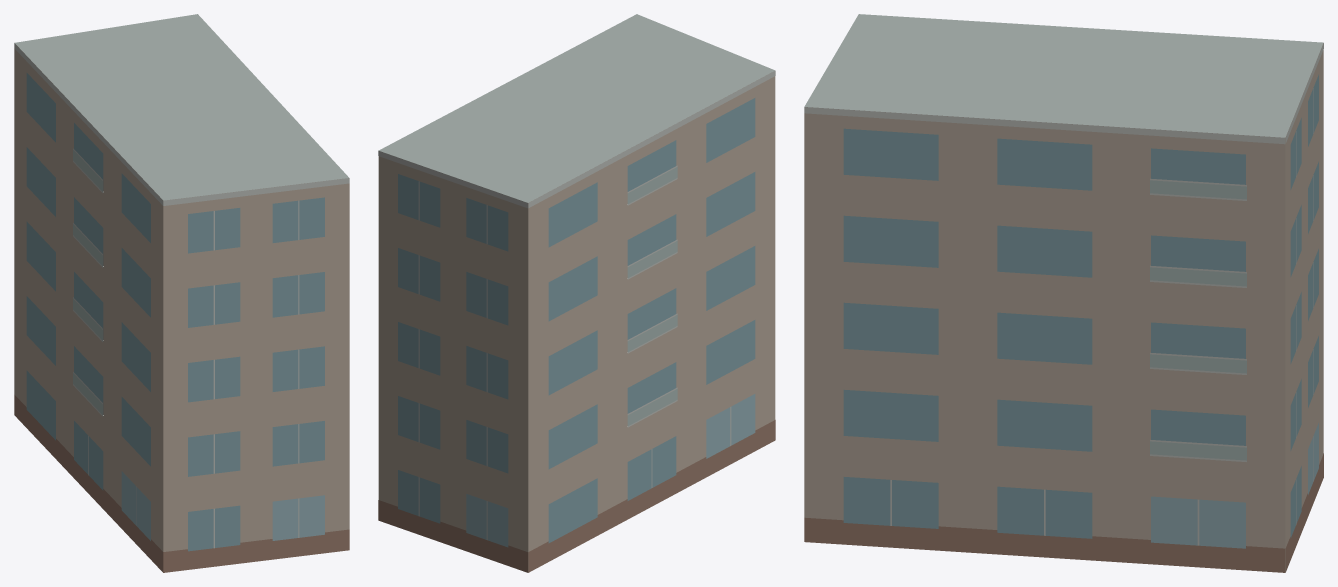
The model's file is survey-upis-32960127.glb.
3 views of the same model, side by side, from view 1: azimuth 30°, elevation 25°; view 2: azimuth 150°, elevation 25°; view 3: azimuth 270°, elevation 25° (orthographic). The views are drawn at different scales.
Parts seen in each view (by area): view 1: survey-upis-32960127.tmp; view 2: survey-upis-32960127.tmp; view 3: survey-upis-32960127.tmp.
Boxes of the visible parts, <box> form: survey-upis-32960127.tmp: <box>14,14,349,572</box>; survey-upis-32960127.tmp: <box>378,14,775,572</box>; survey-upis-32960127.tmp: <box>804,14,1323,572</box>.
Size of the model in its own units: 10.01 by 16.4 by 17.76.
